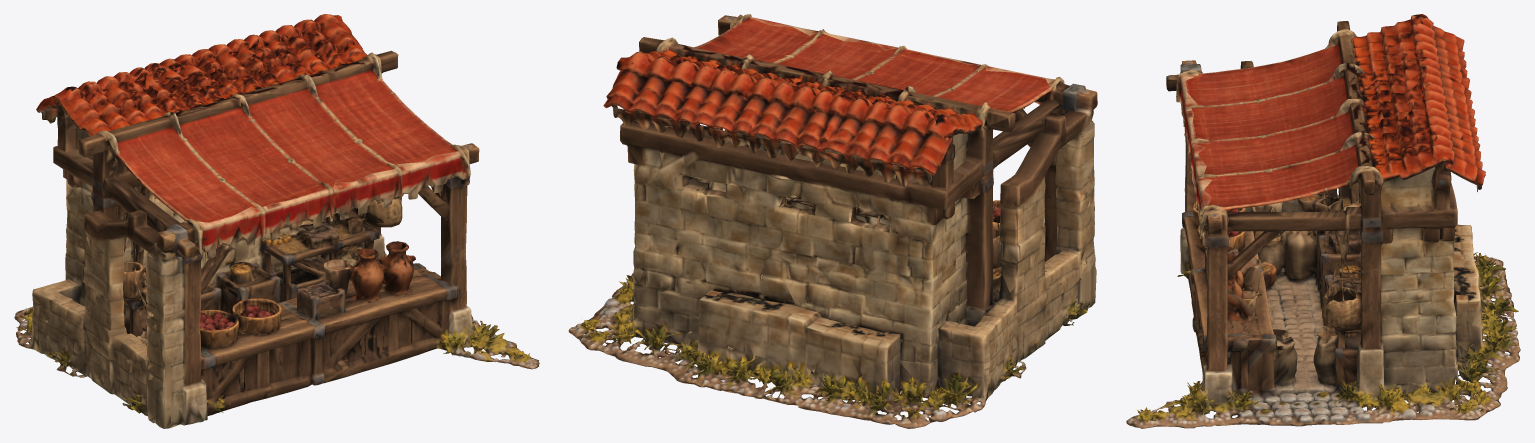
The model's file is SM_PuestoIntercambio.fbx.
3 views of the same model, side by side, from view 1: azimuth 30°, elevation 25°; view 2: azimuth 150°, elevation 25°; view 3: azimuth 270°, elevation 25° (orthographic). The views are drawn at different scales.
Parts seen in each view (by area): view 1: SM_PuestoIntercambio; view 2: SM_PuestoIntercambio; view 3: SM_PuestoIntercambio.
Boxes of the visible parts, box(x1,y1,x2,y2) form: SM_PuestoIntercambio: box(14, 14, 539, 428); SM_PuestoIntercambio: box(568, 14, 1097, 428); SM_PuestoIntercambio: box(1126, 14, 1520, 428).
Size of the model in its own units: 99.96 by 64.38 by 90.32.
Materials: 1 (1 with a texture image).
